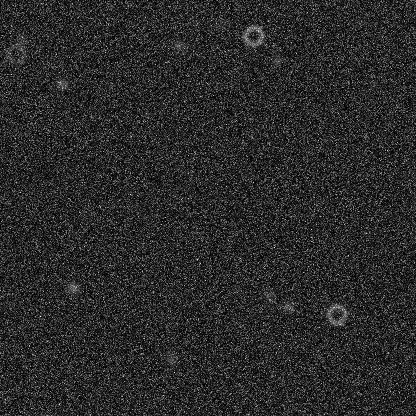Ring: (4, 42, 28, 66), (241, 23, 265, 47), (324, 302, 348, 326)
Spot: (163, 350, 179, 366), (171, 37, 187, 53), (352, 14, 368, 30), (53, 76, 69, 92), (280, 298, 296, 314), (212, 16, 228, 32), (268, 51, 284, 67), (13, 31, 29, 47), (261, 287, 277, 303), (65, 279, 81, 295)
